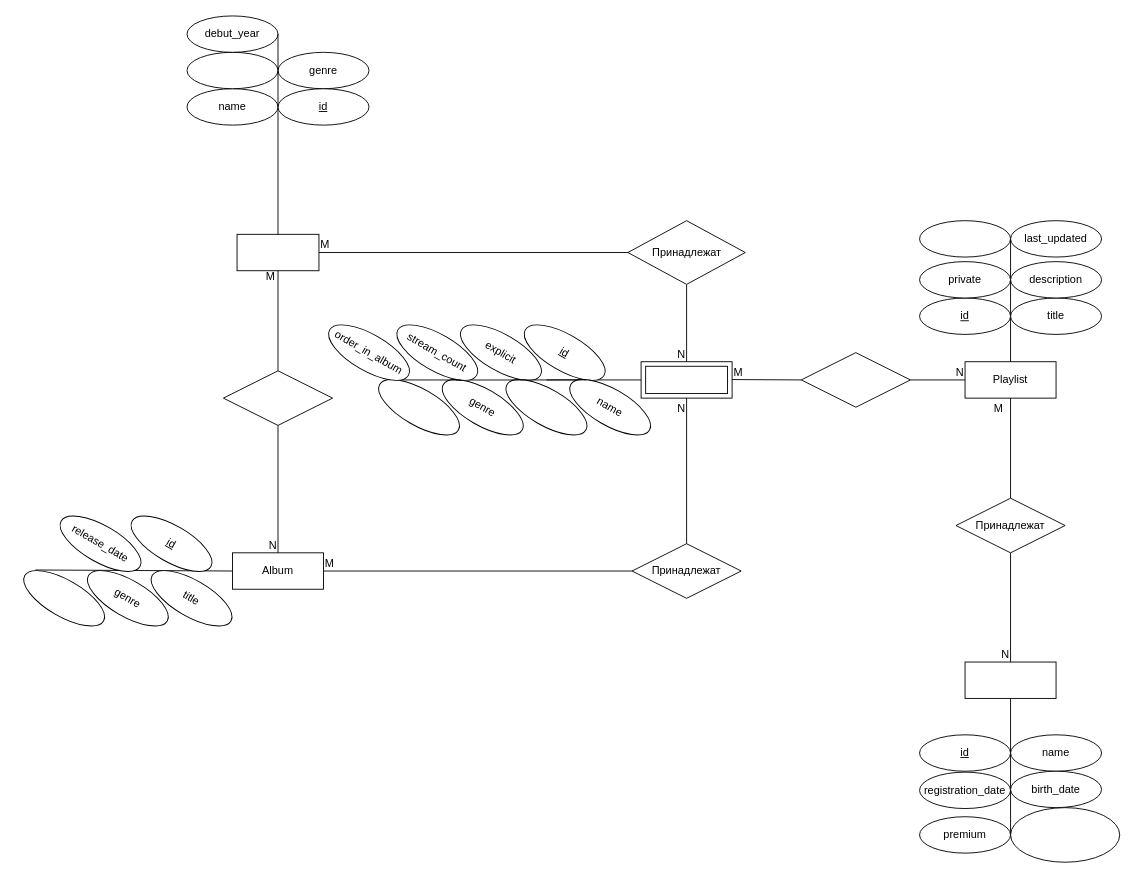
This 1137x878 diagram has some shape labels left out. Here are the shapes that lost their labels. From the top down, the centre of each, then its label:
the point at 232,70: country
the point at 277,252: Artist
the point at 965,238: rating
the point at 277,397: Принадлежит
the point at 686,379: Track
the point at 855,379: Находятся
the point at 418,407: album_id
the point at 546,407: duration
the point at 64,598: label
the point at 1010,679: User
the point at 1065,834: premium expiration
